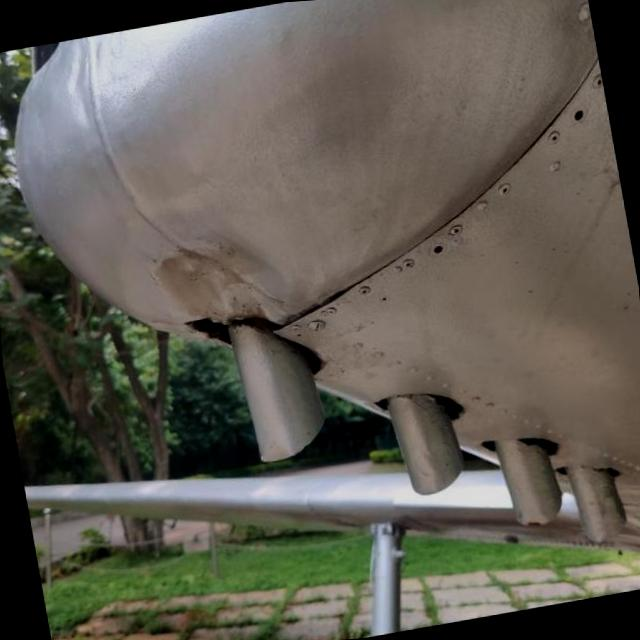dent: (152, 223, 310, 331)
